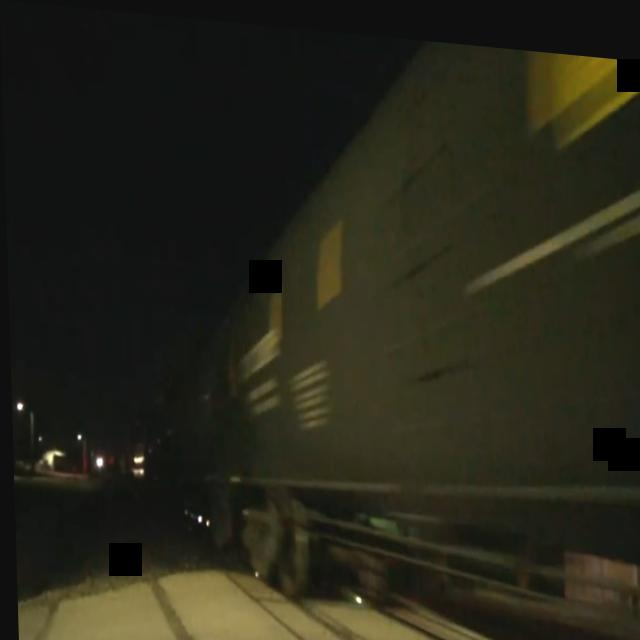hopper: (207, 16, 640, 640)
